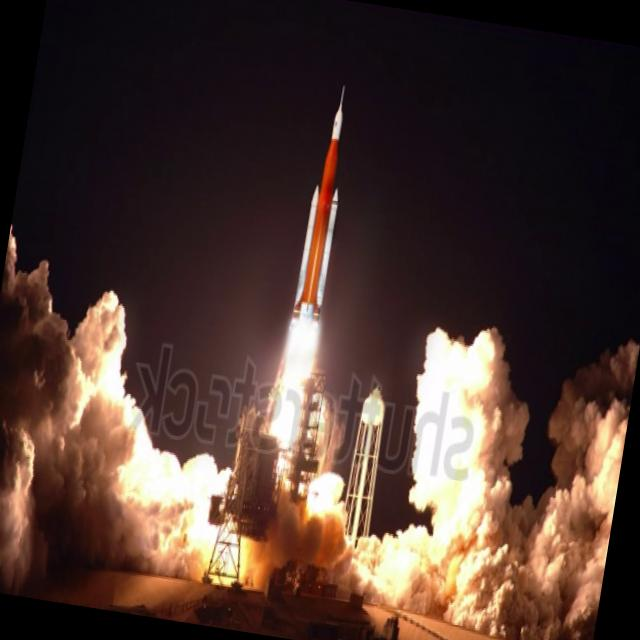rocket: (268, 80, 366, 431)
